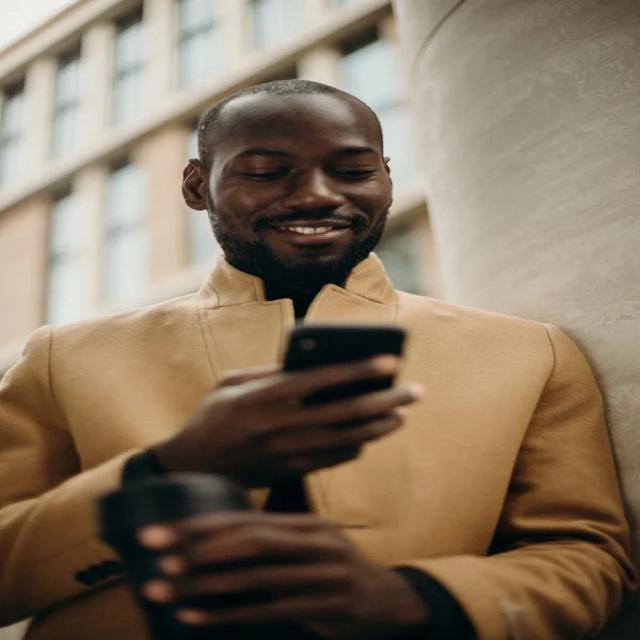Real human 2: (0, 67, 635, 640)
